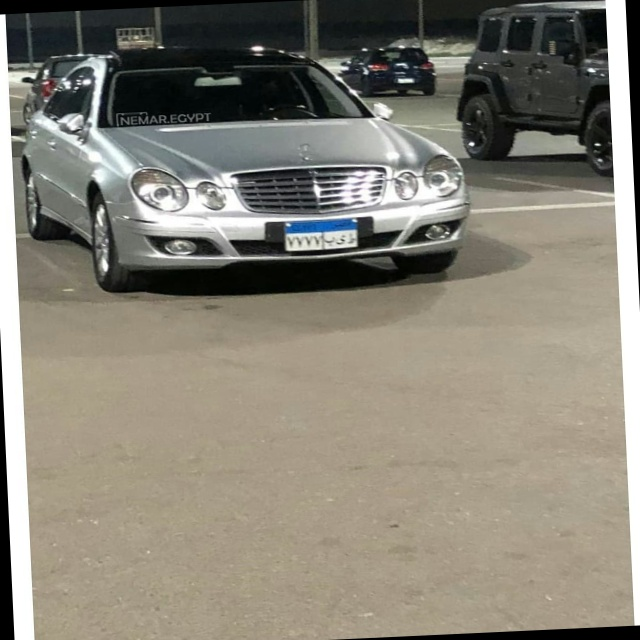License Plate: (282, 216, 360, 253)
